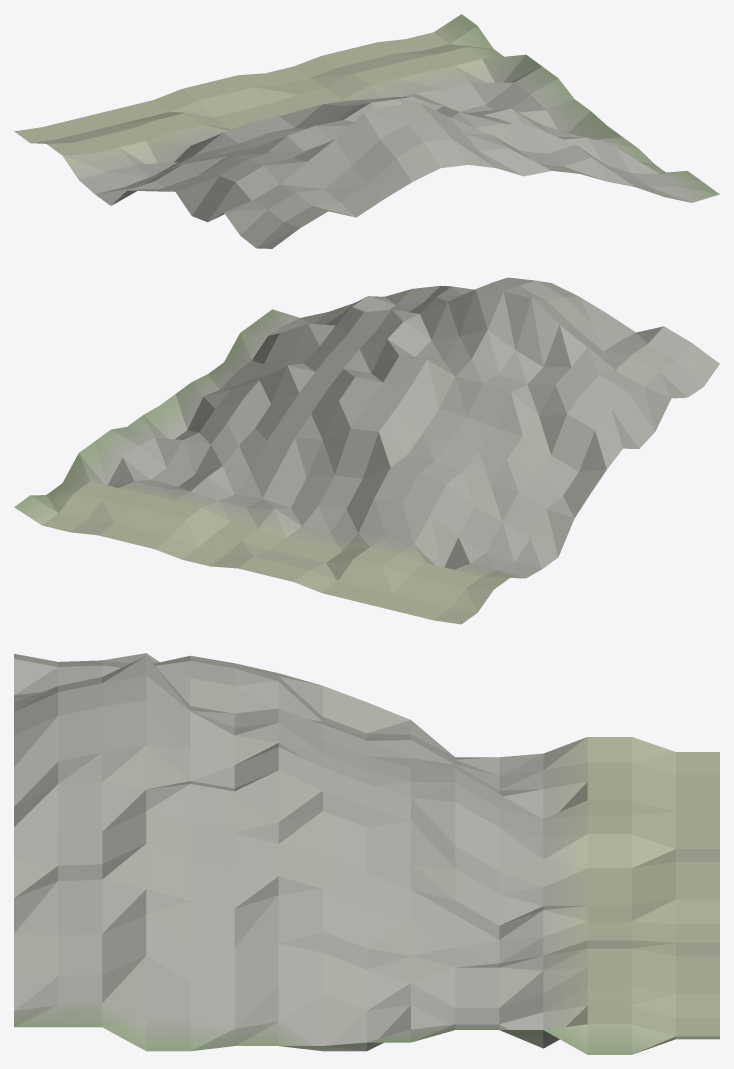
3 renders of one model, top to bottom at view 1: azimuth 30°, elevation 25°; view 2: azimuth 150°, elevation 25°; view 3: azimuth 270°, elevation 25°, orthographic. The views are drawn at different scales.
Bounding box in the file's own units: 32 × 10.51 × 32.
